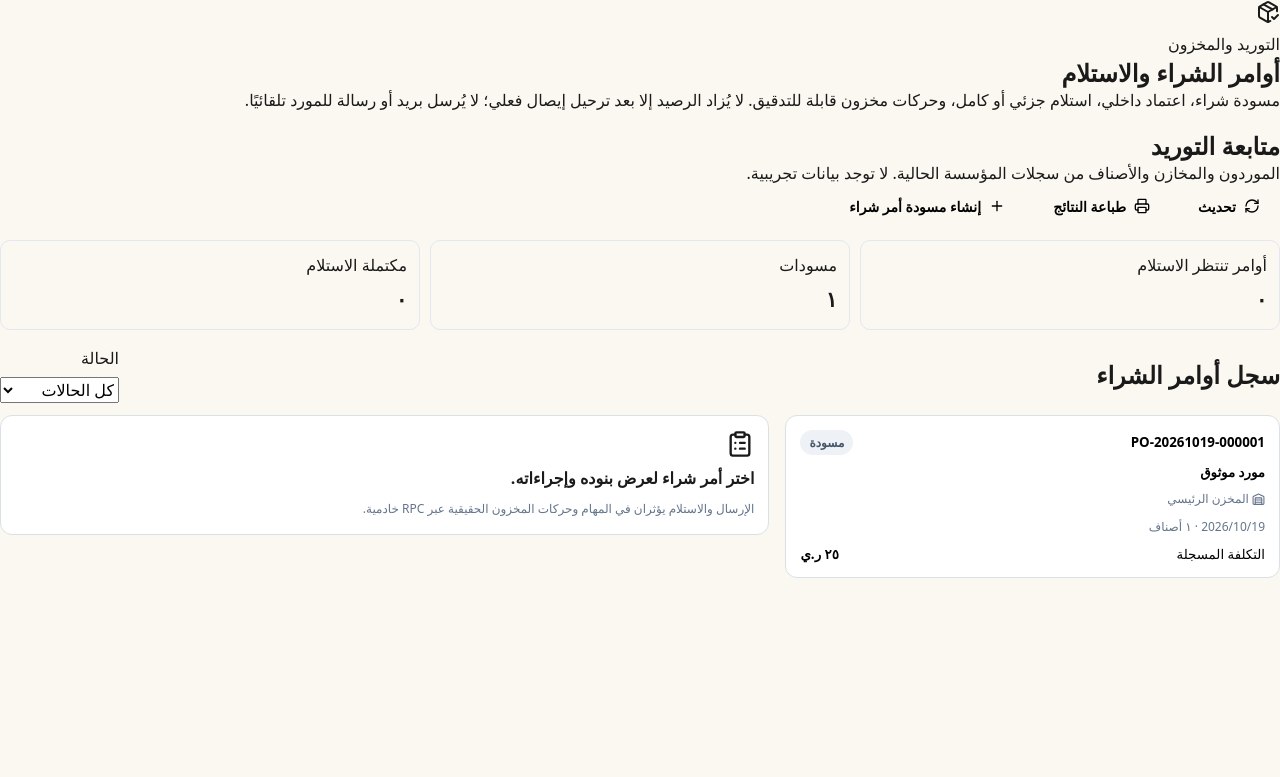
purchase orders page › rejects quantities with more precision than the target supports
Check: the text "PO-20261019-000001" is shown, box [1131,433,1265,451]
Step 1. Click the button "إنشاء مسودة أمر شراء" → (927, 206), box [829,187,1025,226]
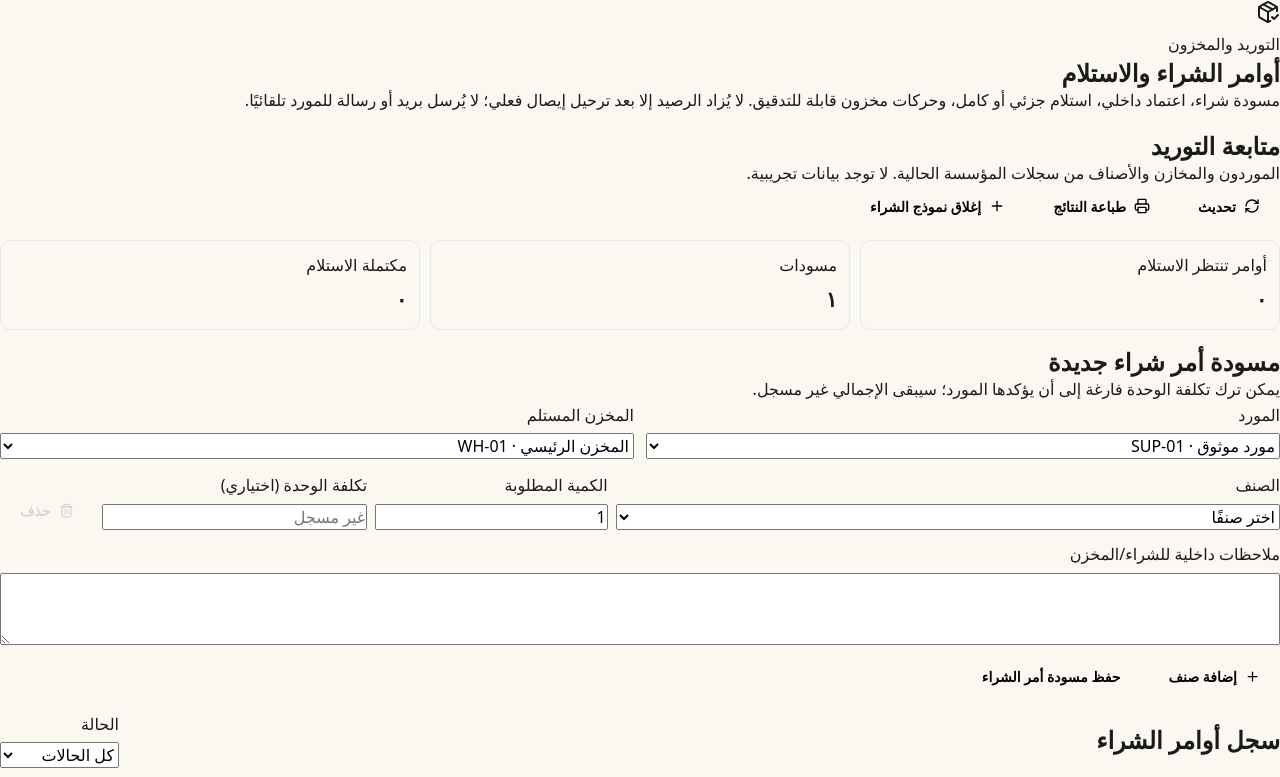
Step 2. Select "سكر · 0000125" in the dropdown labelled "الصنف" → (948, 517), box [616,504,1279,530]
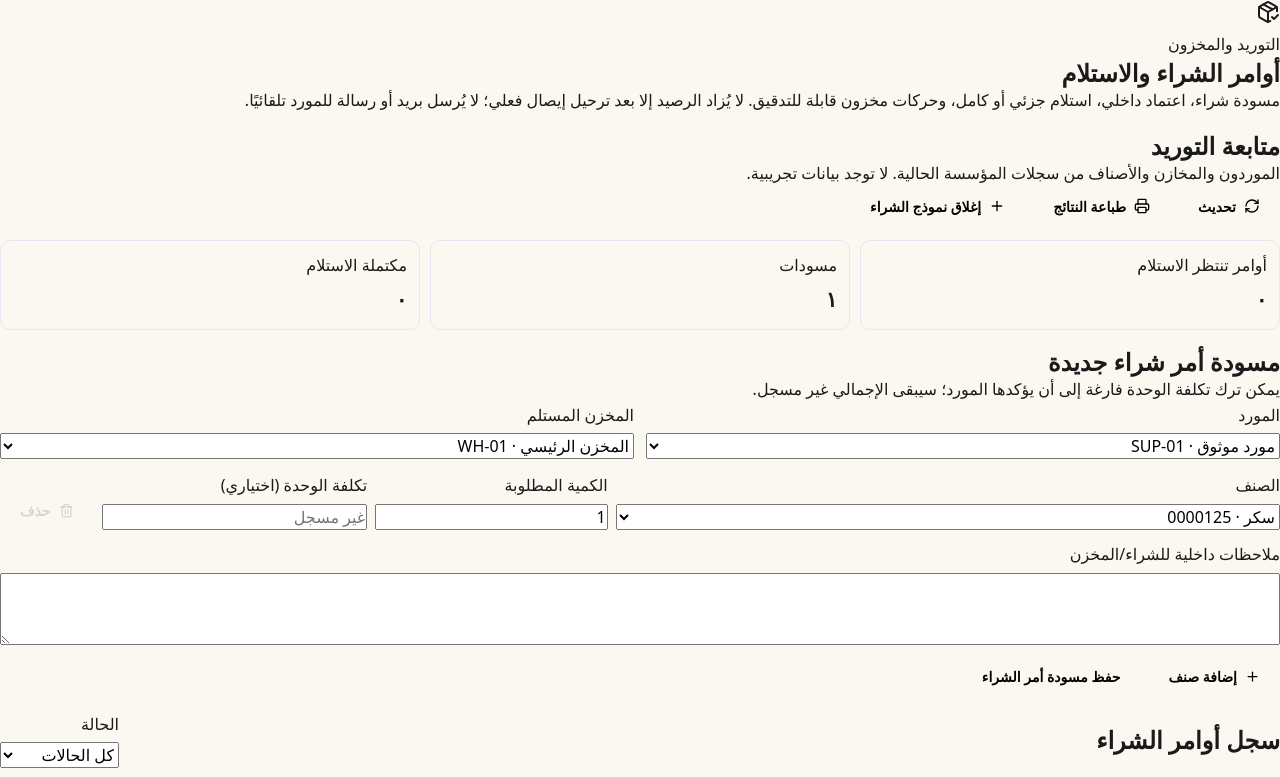
Step 3. Replace the text in the number field labelled "الكمية المطلوبة" with "1.0001" → (491, 517), box [375,504,608,530]
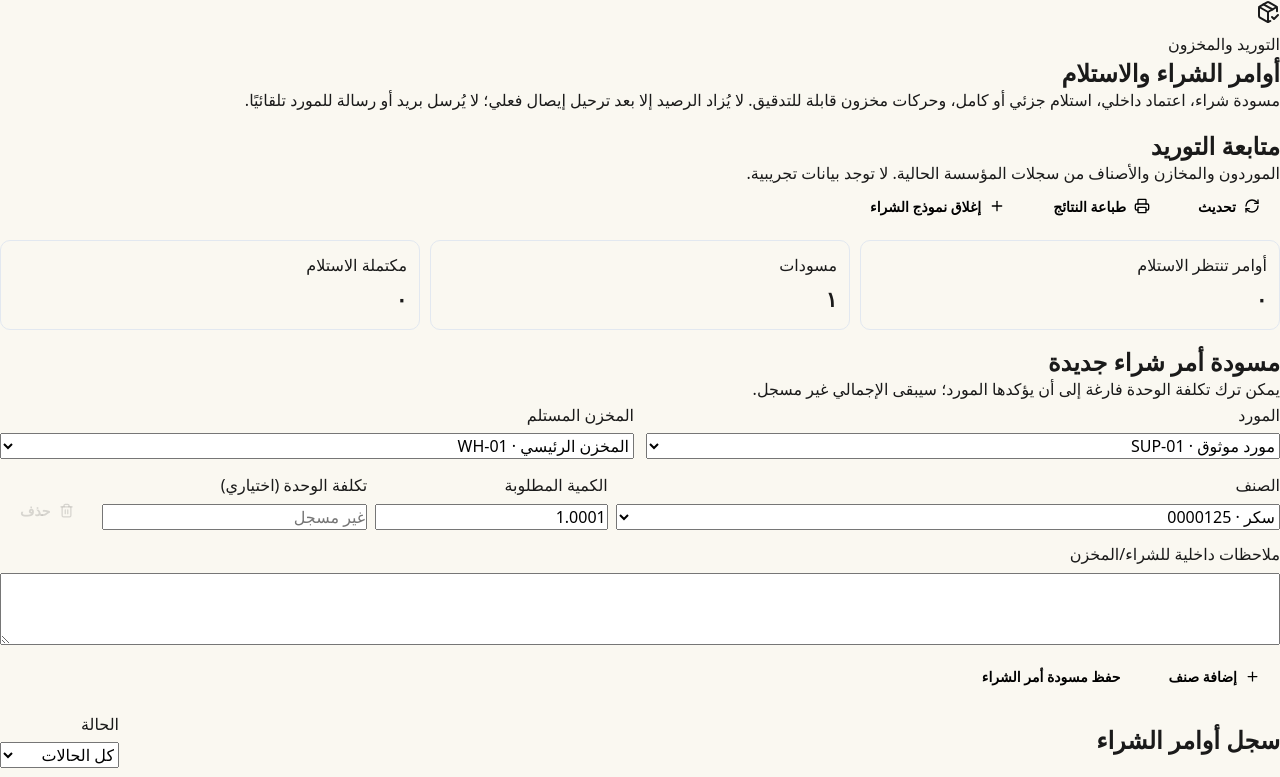
Step 4. Click the button "حفظ مسودة أمر الشراء" → (1051, 676), box [962,656,1140,696]
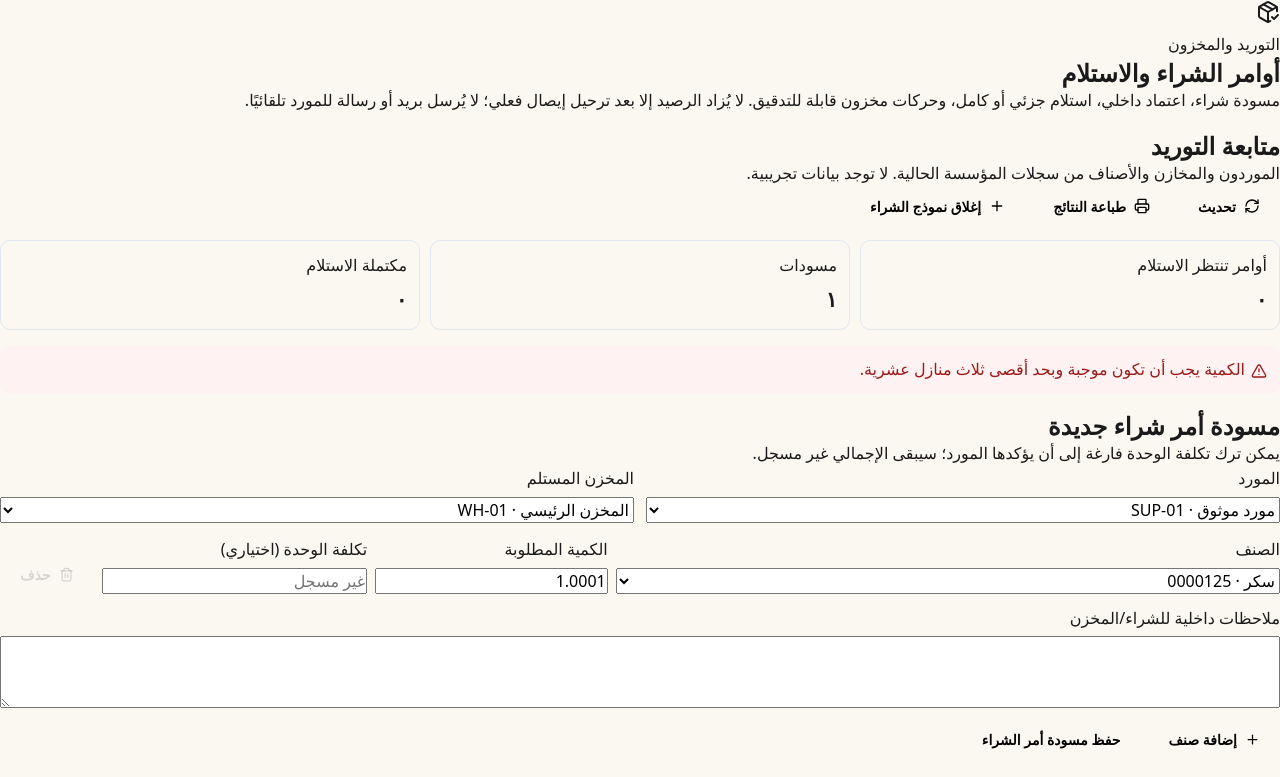
Check: the message shows "الكمية يجب أن تكون موجبة", box [860,358,1245,380]
